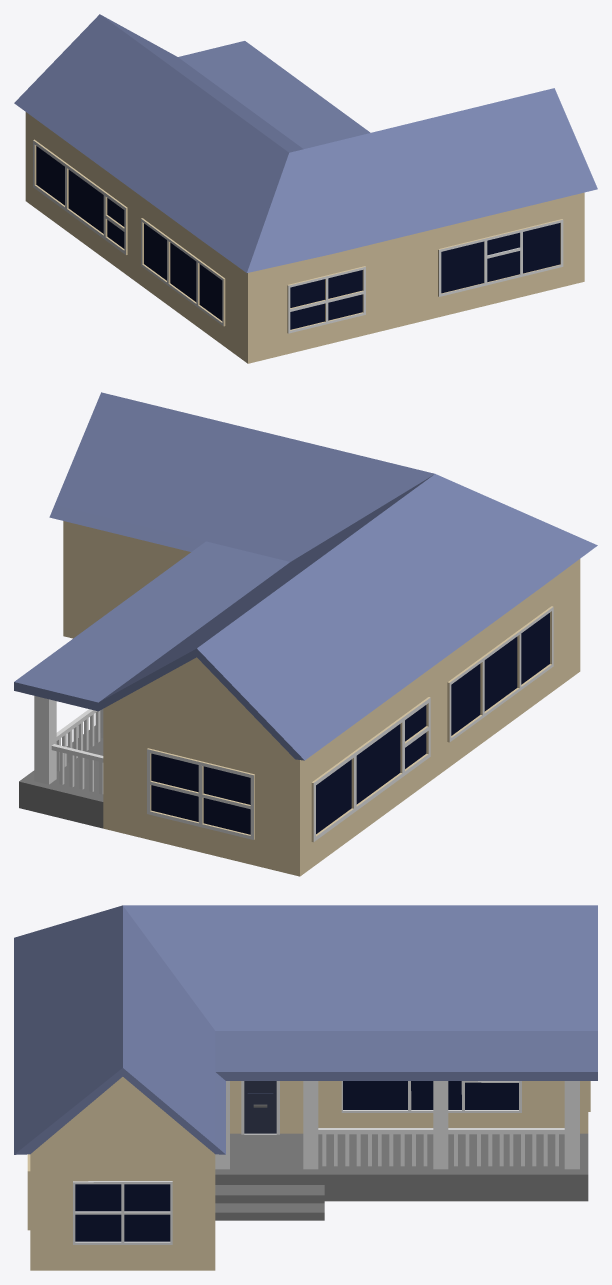
Rendered from House2.fbx.
3 views of the same model, one above another, from view 1: azimuth 30°, elevation 25°; view 2: azimuth 150°, elevation 25°; view 3: azimuth 270°, elevation 25° (orthographic). The views are drawn at different scales.
Parts seen in each view (by area): view 1: Cube; view 2: Cube; view 3: Cube.
Part boxes in pixels (x1,y1,x2,y2): Cube: [14, 14, 597, 363]; Cube: [14, 392, 597, 876]; Cube: [14, 905, 597, 1270].
Bounding box in the file's own units: 1202 × 470 × 1047.
